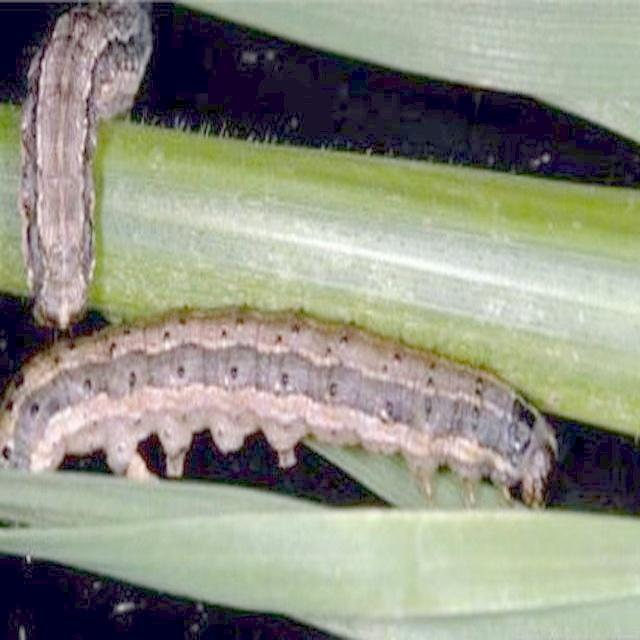gusano_cogollero: (3, 308, 560, 506), (23, 13, 114, 325)
